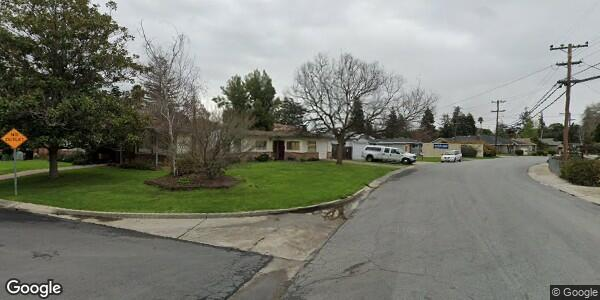Wood_Pole: (547, 39, 590, 172), (488, 98, 508, 158)
